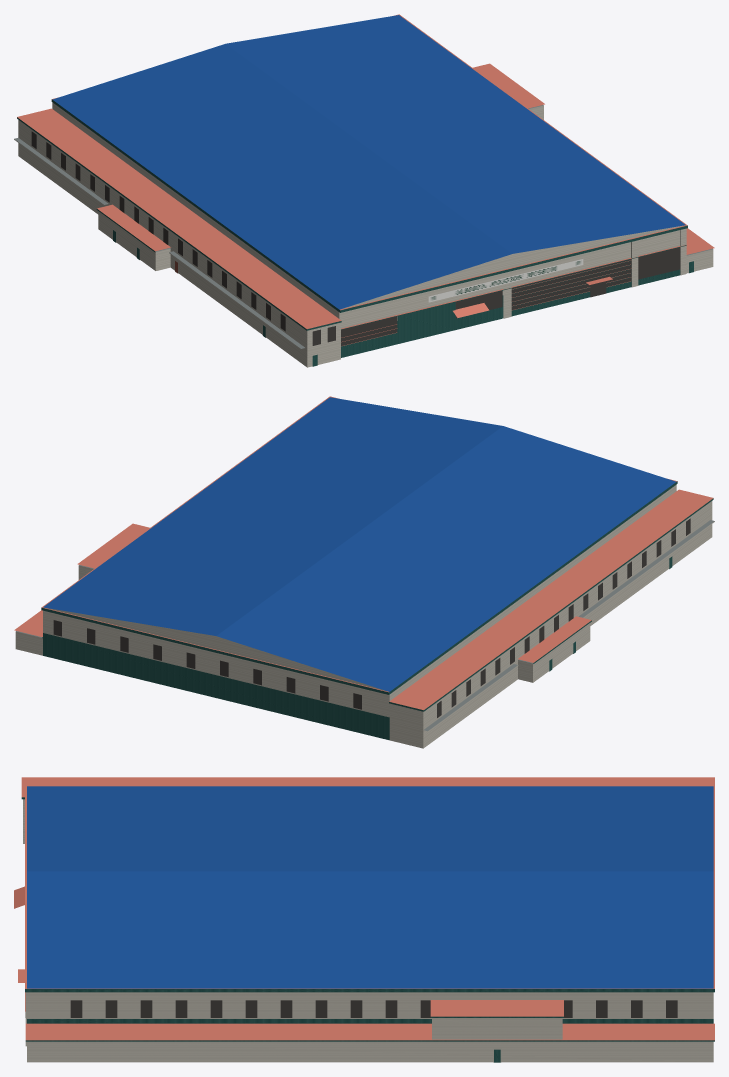
File: cyxd_hangar14_lod3.gltf
3 renders of one model, top to bottom at view 1: azimuth 30°, elevation 25°; view 2: azimuth 150°, elevation 25°; view 3: azimuth 270°, elevation 25°, orthographic. The views are drawn at different scales.
Parts seen in each view (by area): view 1: cyxd_hangar14; view 2: cyxd_hangar14; view 3: cyxd_hangar14.
Part boxes in pixels (x1,y1,x2,y2): cyxd_hangar14: [14, 14, 714, 367]; cyxd_hangar14: [14, 396, 714, 748]; cyxd_hangar14: [14, 777, 714, 1062].
Size of the model in its own units: 85.4 by 11.9 by 102.
